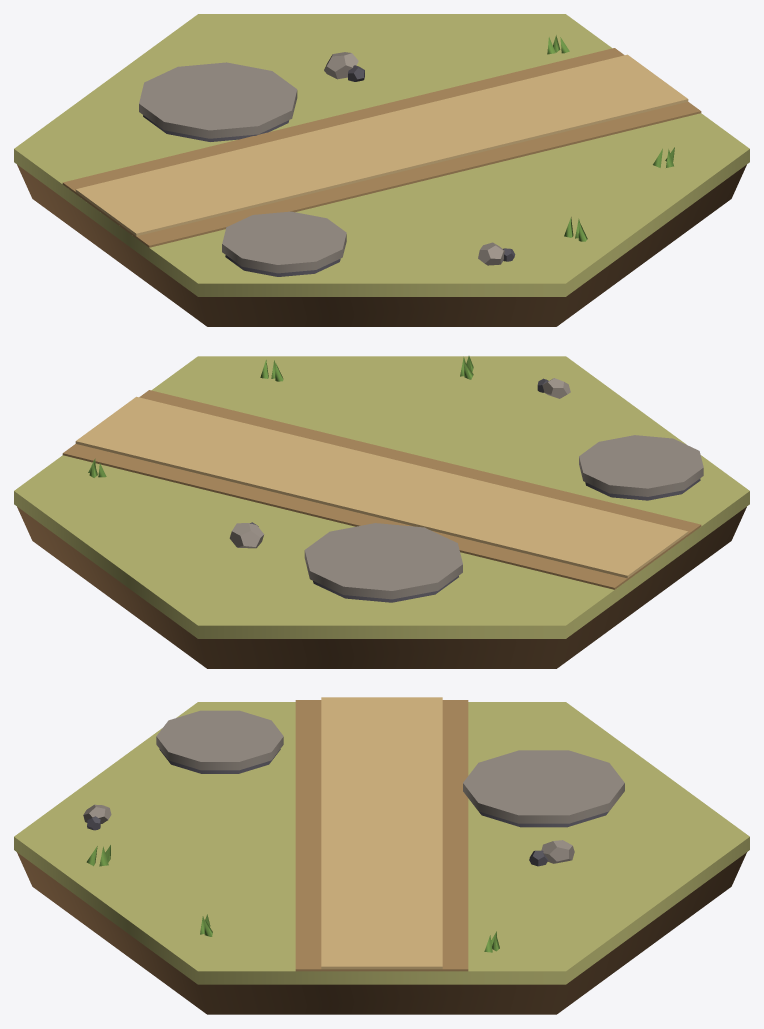
Rendered from tile_empty.glb.
The picture shows the model from 3 angles, top to bottom: view 1: azimuth 30°, elevation 25°; view 2: azimuth 150°, elevation 25°; view 3: azimuth 270°, elevation 25°; orthographic projection.
Parts seen in each view (by area): view 1: ground, road, ground_soil, tower_slot_1_plate, tower_slot_2_plate, road_surface_hub, road_verge_hub, deco_stone_3_a; view 2: ground, road, ground_soil, tower_slot_1_plate, tower_slot_2_plate, road_surface_hub, deco_stone_3_a, road_verge_hub, tower_slot_1_socket; view 3: ground, road, ground_soil, tower_slot_1_plate, tower_slot_2_plate, road_surface_hub, deco_stone_3_a, tower_slot_1_socket.
Boxes of the visible parts, <box> form: ground: <box>14,14,749,296</box>; road: <box>62,48,701,247</box>; ground_soil: <box>17,164,746,326</box>; tower_slot_1_plate: <box>139,62,297,138</box>; tower_slot_2_plate: <box>222,211,346,273</box>; road_surface_hub: <box>322,118,441,168</box>; road_verge_hub: <box>307,114,465,182</box>; deco_stone_3_a: <box>324,52,358,79</box>; ground: <box>14,356,749,638</box>; road: <box>62,390,701,589</box>; ground_soil: <box>17,507,746,668</box>; tower_slot_1_plate: <box>304,523,462,599</box>; tower_slot_2_plate: <box>579,435,703,496</box>; road_surface_hub: <box>322,461,441,509</box>; deco_stone_3_a: <box>229,523,264,548</box>; road_verge_hub: <box>333,457,457,524</box>; tower_slot_1_socket: <box>313,576,458,602</box>; ground: <box>14,702,749,984</box>; road: <box>295,697,468,971</box>; ground_soil: <box>17,852,746,1014</box>; tower_slot_1_plate: <box>463,750,624,823</box>; tower_slot_2_plate: <box>156,710,283,770</box>; road_surface_hub: <box>321,808,442,857</box>; deco_stone_3_a: <box>541,840,574,863</box>; tower_slot_1_socket: <box>479,811,608,827</box>.
Size of the model in its own units: 1.73 by 0.2067 by 2.
